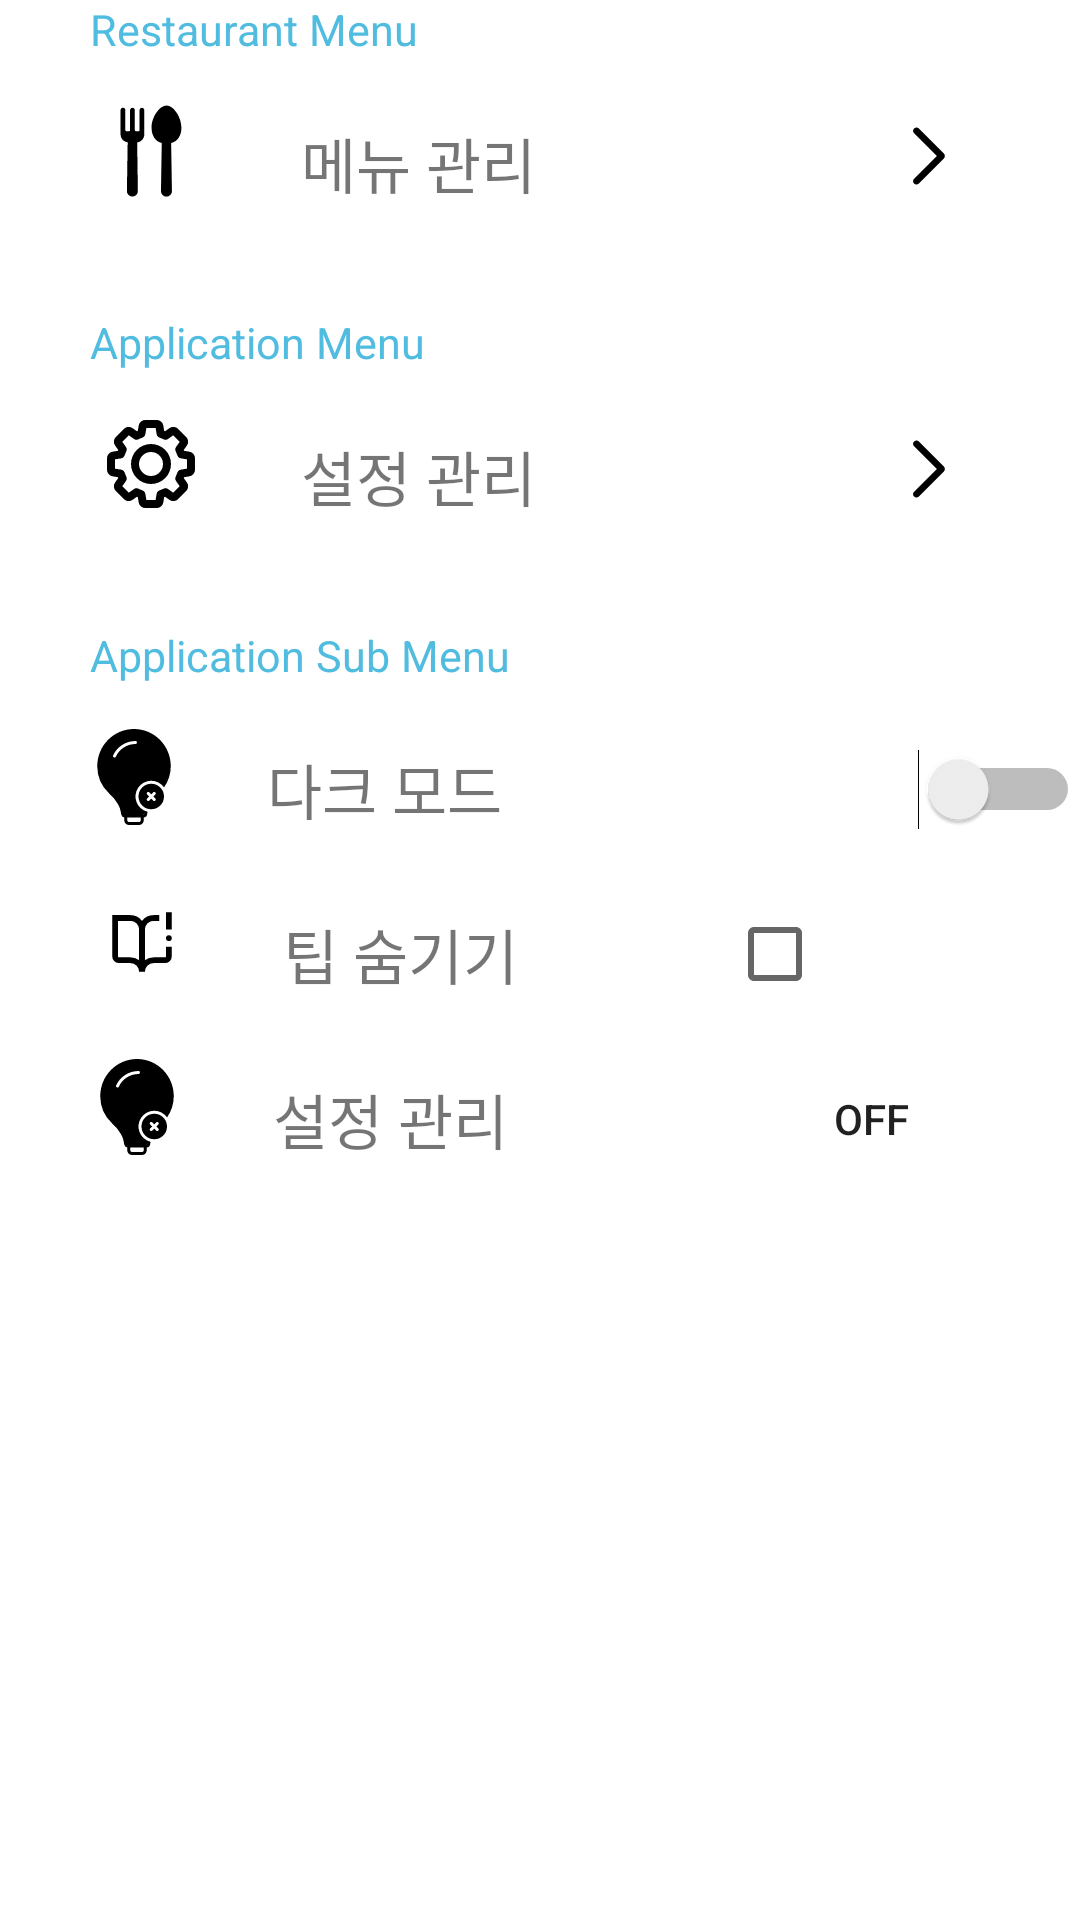

Screen size 1080 × 1920. Icon name, then its box in pixels as (x1, y1, x2, y2):
foodmenu: (120, 105, 182, 197)
noun right: (913, 127, 945, 185), (913, 440, 945, 498)
setting: (107, 420, 195, 508)
tip: (112, 912, 172, 972)
